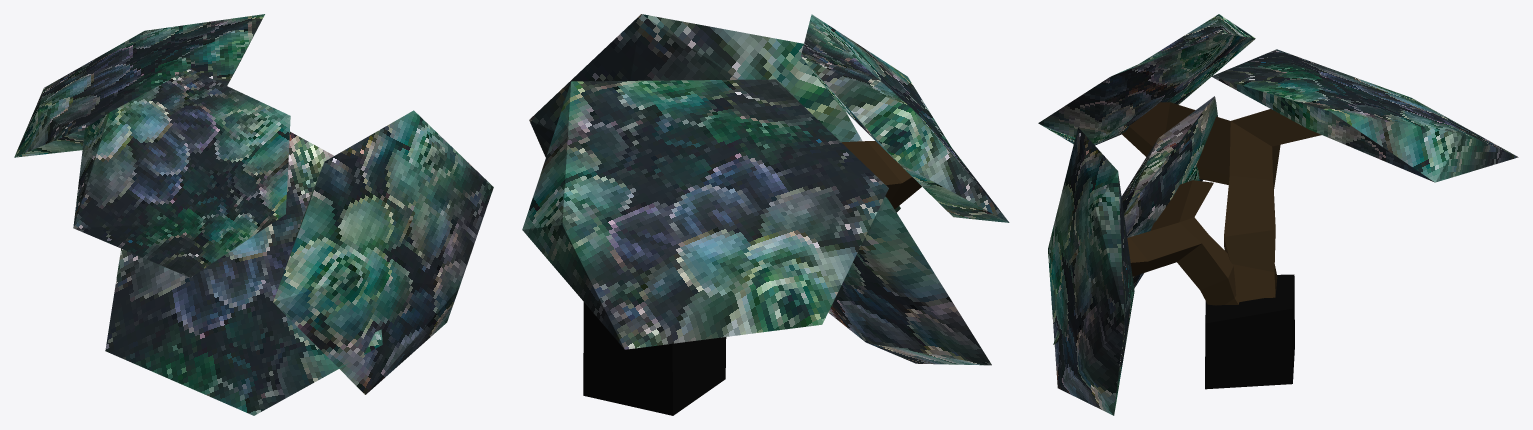
The model's file is plants1.glb.
3 renders of one model, left to right at view 1: azimuth 30°, elevation 25°; view 2: azimuth 150°, elevation 25°; view 3: azimuth 270°, elevation 25°, orthographic. The views are drawn at different scales.
Parts seen in each view (by area): view 1: Icosphere.002, Icosphere.001, Icosphere.003, Icosphere; view 2: Icosphere, Icosphere.002, Icosphere.001, Icosphere.003, Cube, Cube.001; view 3: Icosphere.002, Icosphere, Cube.001, Icosphere.001, Cube, Cube.002, Icosphere.003.
Part boxes in pixels (x1,y1,x2,y2): Icosphere.002: [273, 110, 493, 394]; Icosphere.001: [73, 69, 290, 277]; Icosphere.003: [105, 131, 382, 415]; Icosphere: [14, 14, 264, 157]; Icosphere: [522, 79, 888, 349]; Icosphere.002: [529, 14, 900, 212]; Icosphere.001: [801, 14, 1009, 222]; Icosphere.003: [828, 196, 991, 365]; Cube: [583, 302, 726, 415]; Cube.001: [841, 141, 921, 209]; Icosphere.002: [1048, 127, 1134, 415]; Icosphere: [1211, 49, 1518, 182]; Cube.001: [1121, 102, 1321, 301]; Icosphere.001: [1038, 14, 1255, 145]; Cube: [1205, 274, 1294, 389]; Cube.002: [1074, 180, 1239, 305]; Icosphere.003: [1053, 96, 1217, 344].
Size of the model in its own units: 2.66 by 1.88 by 2.68.
Materials: 3 (1 with a texture image).
